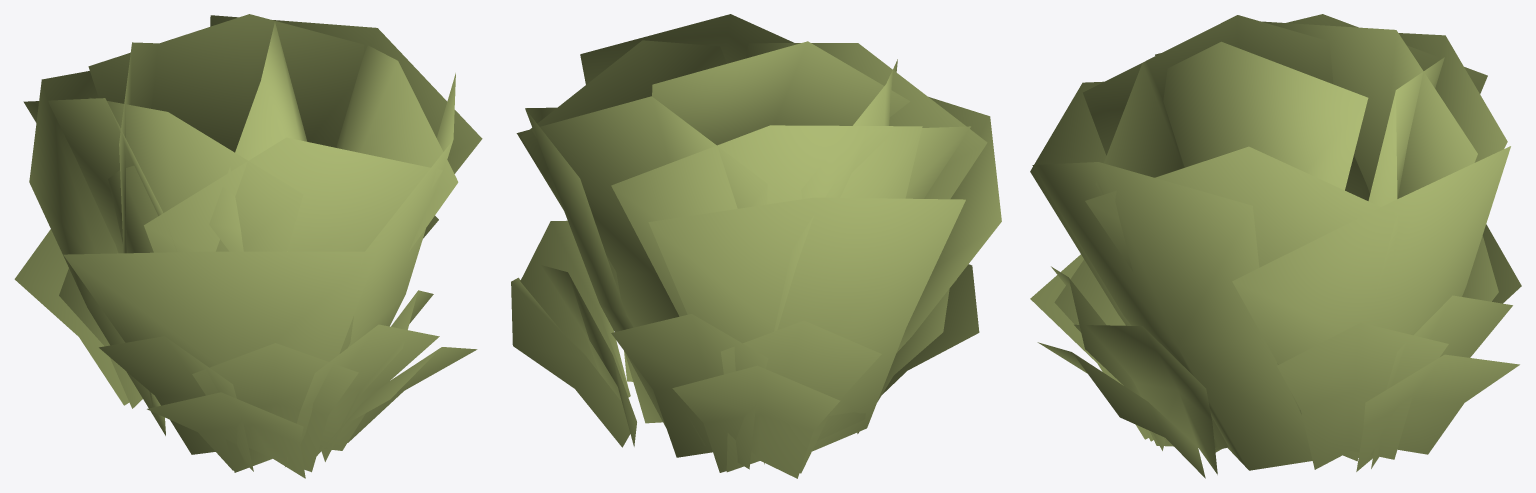
Rendered from cmc_tallgrass.fbx.
The picture shows the model from 3 angles, left to right: view 1: azimuth 30°, elevation 25°; view 2: azimuth 150°, elevation 25°; view 3: azimuth 270°, elevation 25°; orthographic projection. The views are drawn at different scales.
Visible parts, largest first — view 1: tall_grass_LOD0; view 2: tall_grass_LOD0; view 3: tall_grass_LOD0.
Boxes of the visible parts, box(x1,y1,x2,y2) form: tall_grass_LOD0: box(14, 14, 482, 478); tall_grass_LOD0: box(511, 14, 1001, 478); tall_grass_LOD0: box(1030, 14, 1521, 478).
Size of what is drawn, in the model's own units: 1.12 by 0.9611 by 1.07.
